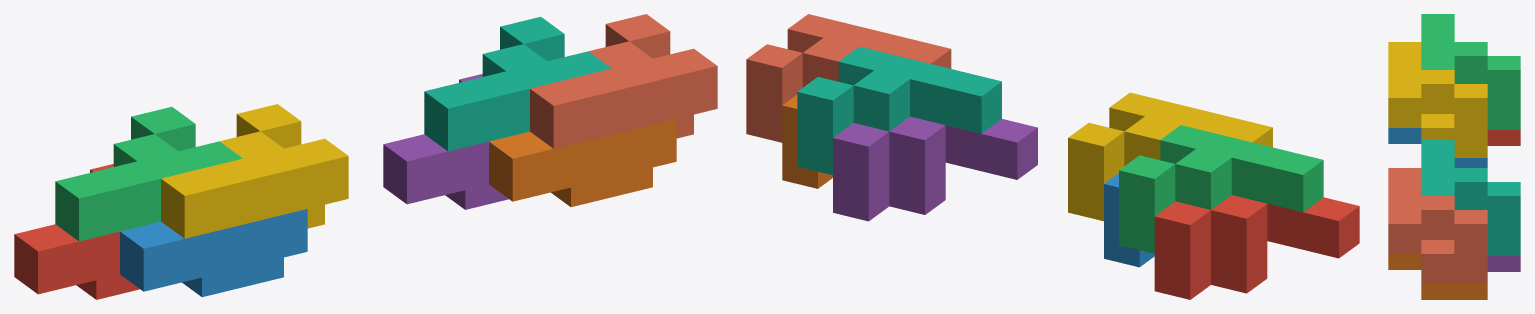
The model's file is tiling.obj.
3 views of the same model, side by side, from view 1: azimuth 30°, elevation 25°; view 2: azimuth 150°, elevation 25°; view 3: azimuth 270°, elevation 25° (orthographic). The views are drawn at different scales.
Visible parts, largest first — view 1: copy_1_domain_8, copy_1_domain_4, copy_1_domain_3, copy_1_domain_7, copy_1_domain_6, copy_1_domain_2, copy_1_domain_5, copy_1_domain_1; view 2: copy_1_domain_1, copy_1_domain_5, copy_1_domain_7, copy_1_domain_3, copy_1_domain_8, copy_1_domain_4, copy_1_domain_6, copy_1_domain_2; view 3: copy_1_domain_8, copy_1_domain_4, copy_1_domain_3, copy_1_domain_7, copy_1_domain_6, copy_1_domain_2, copy_1_domain_1, copy_1_domain_5.
Part boxes in pixels (box(x1,y1,x2,y2)): copy_1_domain_8: box(530, 14, 717, 148); copy_1_domain_4: box(161, 104, 348, 238); copy_1_domain_3: box(55, 106, 242, 241); copy_1_domain_7: box(424, 16, 611, 151); copy_1_domain_6: box(489, 119, 676, 207); copy_1_domain_2: box(120, 209, 307, 297); copy_1_domain_5: box(383, 74, 508, 209); copy_1_domain_1: box(14, 164, 139, 299); copy_1_domain_1: box(1154, 195, 1359, 299); copy_1_domain_5: box(833, 116, 1037, 221); copy_1_domain_7: box(797, 46, 1001, 175); copy_1_domain_3: box(1119, 125, 1323, 253); copy_1_domain_8: box(746, 14, 951, 142); copy_1_domain_4: box(1068, 92, 1272, 221); copy_1_domain_6: box(782, 94, 832, 188); copy_1_domain_2: box(1104, 173, 1154, 267); copy_1_domain_8: box(1388, 168, 1487, 283); copy_1_domain_4: box(1388, 42, 1487, 157); copy_1_domain_3: box(1421, 14, 1520, 129); copy_1_domain_7: box(1421, 140, 1520, 255); copy_1_domain_6: box(1388, 254, 1487, 299); copy_1_domain_2: box(1388, 128, 1487, 167); copy_1_domain_1: box(1487, 130, 1520, 145); copy_1_domain_5: box(1487, 256, 1520, 271).
Size of the model in its own units: 16 by 3 by 4.
